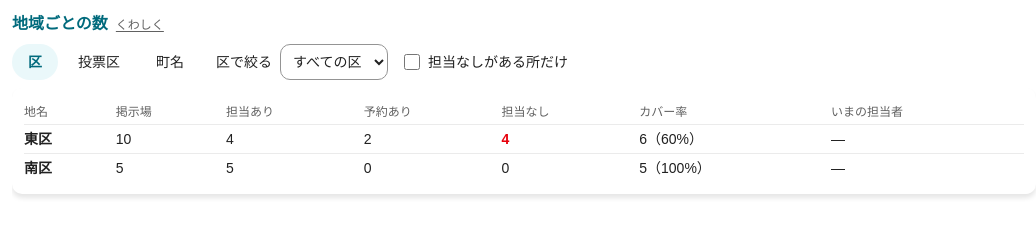
Test: 単位を切り替えると行が変わる。校区は今回は使わないので単位に出さない
Click the button "投票区" at point(99, 62), box [62,44,136,80]
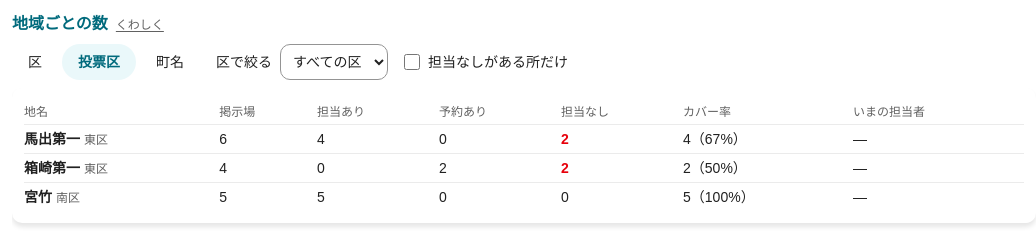
Now the button "箱崎第一" is shown, box [24,158,80,178]
Click the button "町名" at point(170, 62), box [140,44,200,80]
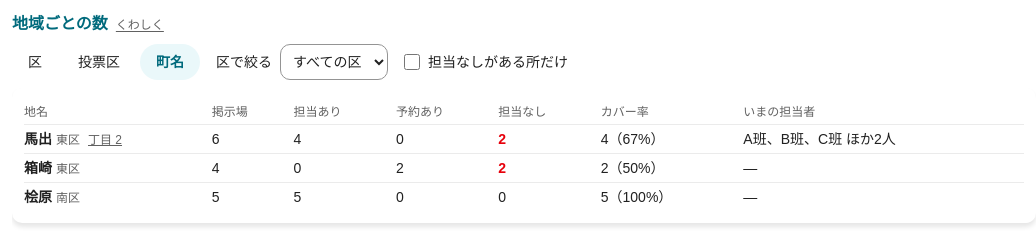
Now the button "箱崎" is shown, box [24,158,52,178]
Now the button "箱崎第一" is gone
